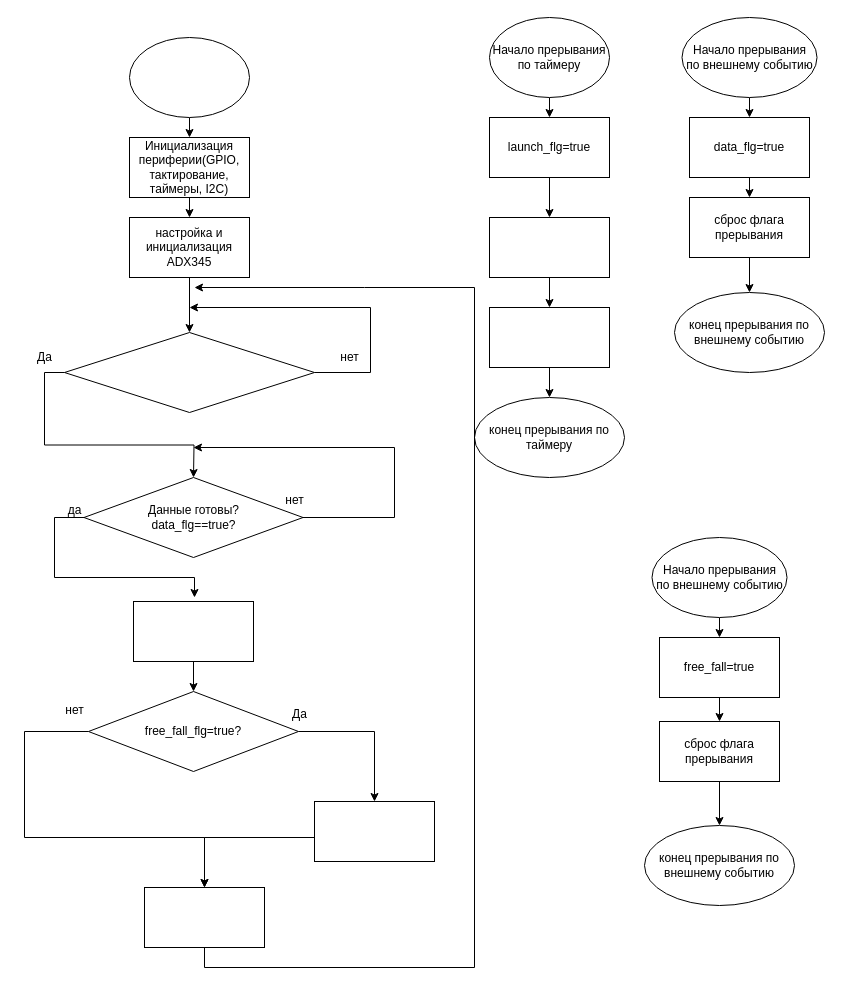
Some shapes in this 842 by 993 pixel diagram are drawn without their labels. The box of each missing label's shape, as (x1, y1, x2, y2) in pixels:
launch_flg=true?: (64, 332, 314, 412)
Начало: (128, 36, 250, 118)
отправляем значения ускорений: (144, 886, 264, 948)
Отправляем сообщение о падении: (314, 800, 434, 862)
Сброс значения счетчика: (488, 216, 610, 278)
сброс флага переполнения счетчика: (488, 306, 610, 368)
Чтение результатов преобразования: (132, 600, 254, 662)
